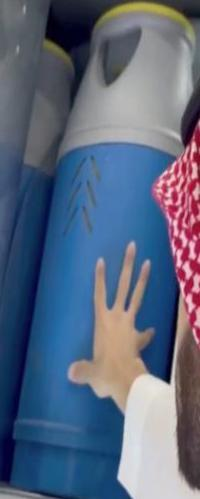cylinder: (1, 1, 200, 499)
